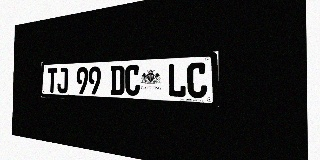9: (88, 66, 101, 95), (76, 67, 88, 94)
C: (187, 62, 207, 98), (125, 65, 140, 96)
D: (110, 65, 125, 95)
J: (57, 68, 68, 93)
L: (168, 63, 186, 98)
T: (47, 68, 57, 93)
